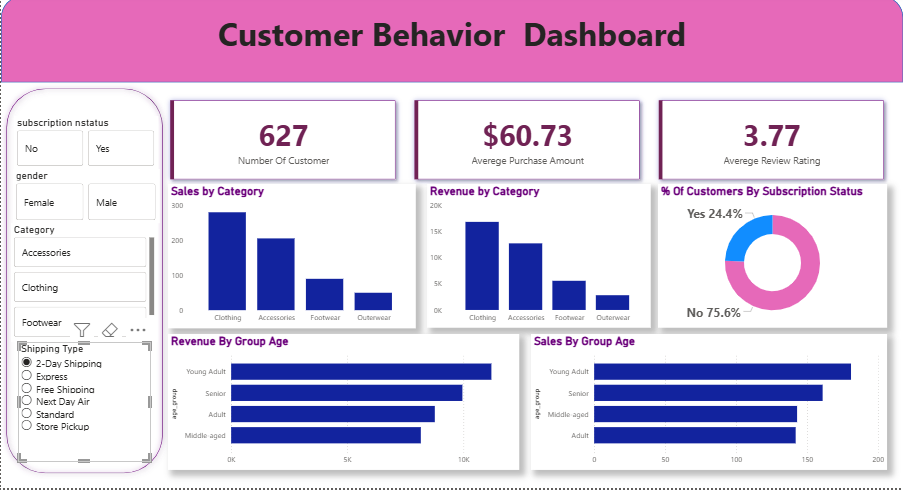

The dashboard page shown, as its layout file describes it:
{"tool":"powerbi","page":{"name":"Page 1","canvas":[1500,820],"ordinal":0},"visuals":[{"type":"cardVisual","fields":{"Data":["customer.Number Of Customer","customer.Averege Purchase Amount","customer.Averege Review Rating"]},"box":[253.2,143.9,1246.8,189.9],"z":0},{"type":"shape","box":[0,0,1500,143.7],"z":1000},{"type":"textbox","box":[0,19.7,1500,124],"z":2000},{"type":"clusteredColumnChart","title":"Revenue by Category","fields":{"Y":["Sum(customer.purchase_amount)"],"Category":["customer.category"]},"box":[707.8,312.7,372.1,239.8],"z":3000},{"type":"clusteredColumnChart","title":"Sales by Category","fields":{"Category":["customer.category"],"Y":["CountNonNull(customer.customer_id)"]},"box":[278.1,312.7,412.4,239.8],"z":4000},{"type":"donutChart","title":"% Of Customers By Subscription Status","fields":{"Category":["customer.subscription_status"],"Y":["CountNonNull(customer.customer_id)"]},"box":[1104.9,312.7,381.7,239.8],"z":5000},{"type":"shape","box":[0,143.9,278.1,657.9],"z":6000},{"type":"advancedSlicerVisual","fields":{"Values":["customer.subscription_status"]},"box":[21.1,199.5,239.8,88.2],"z":7000},{"type":"advancedSlicerVisual","fields":{"Values":["customer.gender"]},"box":[19.2,287.7,243.6,90.2],"z":8000},{"type":"advancedSlicerVisual","fields":{"Values":["customer.category"]},"box":[17.3,377.9,243.6,197.6],"z":9000},{"type":"listSlicer","fields":{"Values":["customer.shipping_type"]},"box":[28.8,575.4,220.6,199.5],"z":10000},{"type":"clusteredBarChart","title":"Revenue By Group Age","fields":{"Y":["Sum(customer.purchase_amount)"],"Category":["customer.age_group"]},"box":[278.1,575.4,583.1,226.3],"z":11000},{"type":"clusteredBarChart","title":"Sales By Group Age","fields":{"Y":["CountNonNull(customer.customer_id)"],"Category":["customer.age_group"]},"box":[893.9,575.4,592.7,226.3],"z":12000}]}

Visuals, with their boxes in screenshot pixels (x1, y1, x2, y2), scaled from the page's 1500x820 canvas onto the 903x491 screenshot:
cardVisual - customer.Number Of Customer x customer.Averege Purchase Amount: (x1=152, y1=86, x2=902, y2=200)
shape: (x1=0, y1=0, x2=902, y2=86)
textbox: (x1=0, y1=12, x2=902, y2=86)
"Revenue by Category" clusteredColumnChart: (x1=426, y1=187, x2=650, y2=331)
"Sales by Category" clusteredColumnChart: (x1=167, y1=187, x2=416, y2=331)
"% Of Customers By Subscription Status" donutChart: (x1=665, y1=187, x2=895, y2=331)
shape: (x1=0, y1=86, x2=167, y2=480)
advancedSlicerVisual - customer.subscription_status: (x1=13, y1=119, x2=157, y2=172)
advancedSlicerVisual - customer.gender: (x1=12, y1=172, x2=158, y2=226)
advancedSlicerVisual - customer.category: (x1=10, y1=226, x2=157, y2=345)
listSlicer - customer.shipping_type: (x1=17, y1=345, x2=150, y2=464)
"Revenue By Group Age" clusteredBarChart: (x1=167, y1=345, x2=518, y2=480)
"Sales By Group Age" clusteredBarChart: (x1=538, y1=345, x2=895, y2=480)
